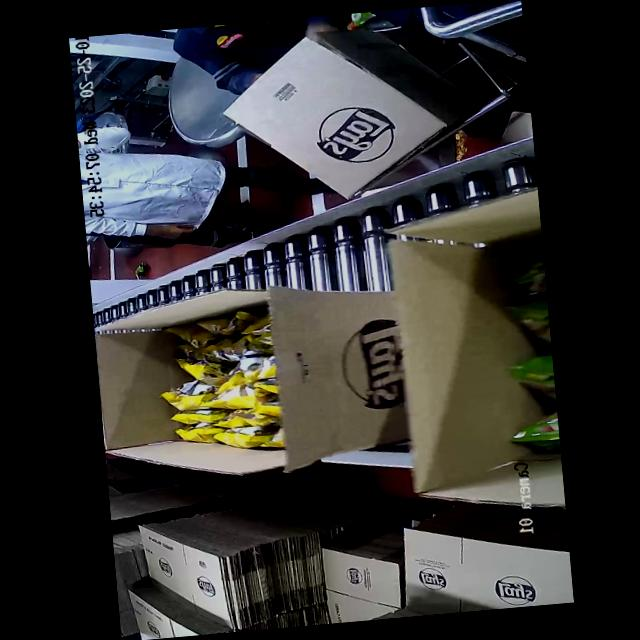salted: (148, 316, 306, 476)
yogurt: (464, 247, 558, 448)
